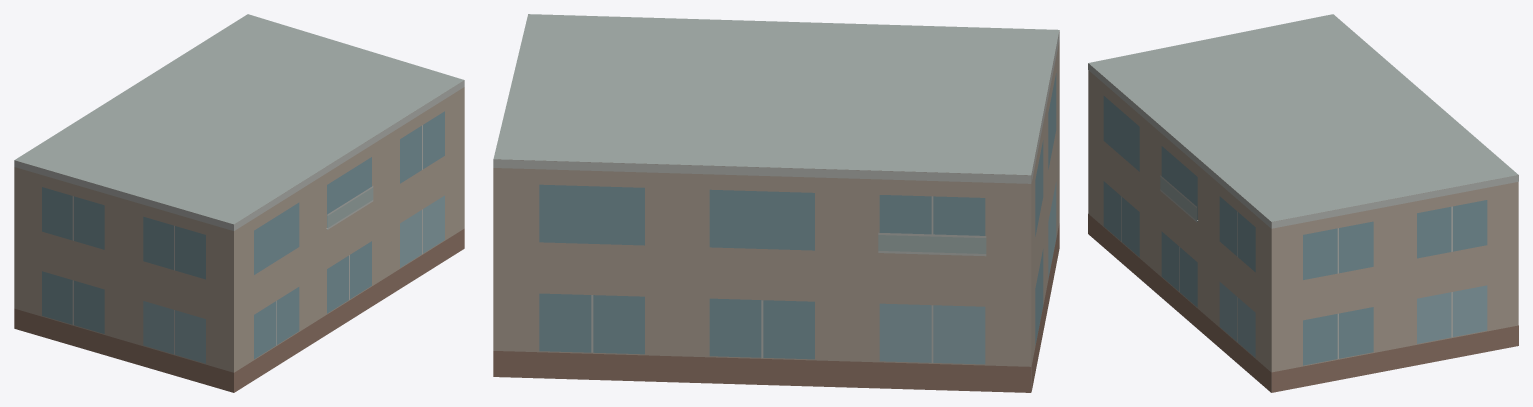
File: survey-upis-32724286.glb
3 renders of one model, left to right at view 1: azimuth 30°, elevation 25°; view 2: azimuth 150°, elevation 25°; view 3: azimuth 270°, elevation 25°, orthographic. The views are drawn at different scales.
Visible parts, largest first — view 1: survey-upis-32724286.tmp; view 2: survey-upis-32724286.tmp; view 3: survey-upis-32724286.tmp.
Part boxes in pixels (bbox=[...]): survey-upis-32724286.tmp: bbox=[14, 14, 464, 392]; survey-upis-32724286.tmp: bbox=[493, 14, 1059, 392]; survey-upis-32724286.tmp: bbox=[1088, 14, 1518, 392].
Bounding box in the file's own units: 15.92 × 6.1 × 13.94.
